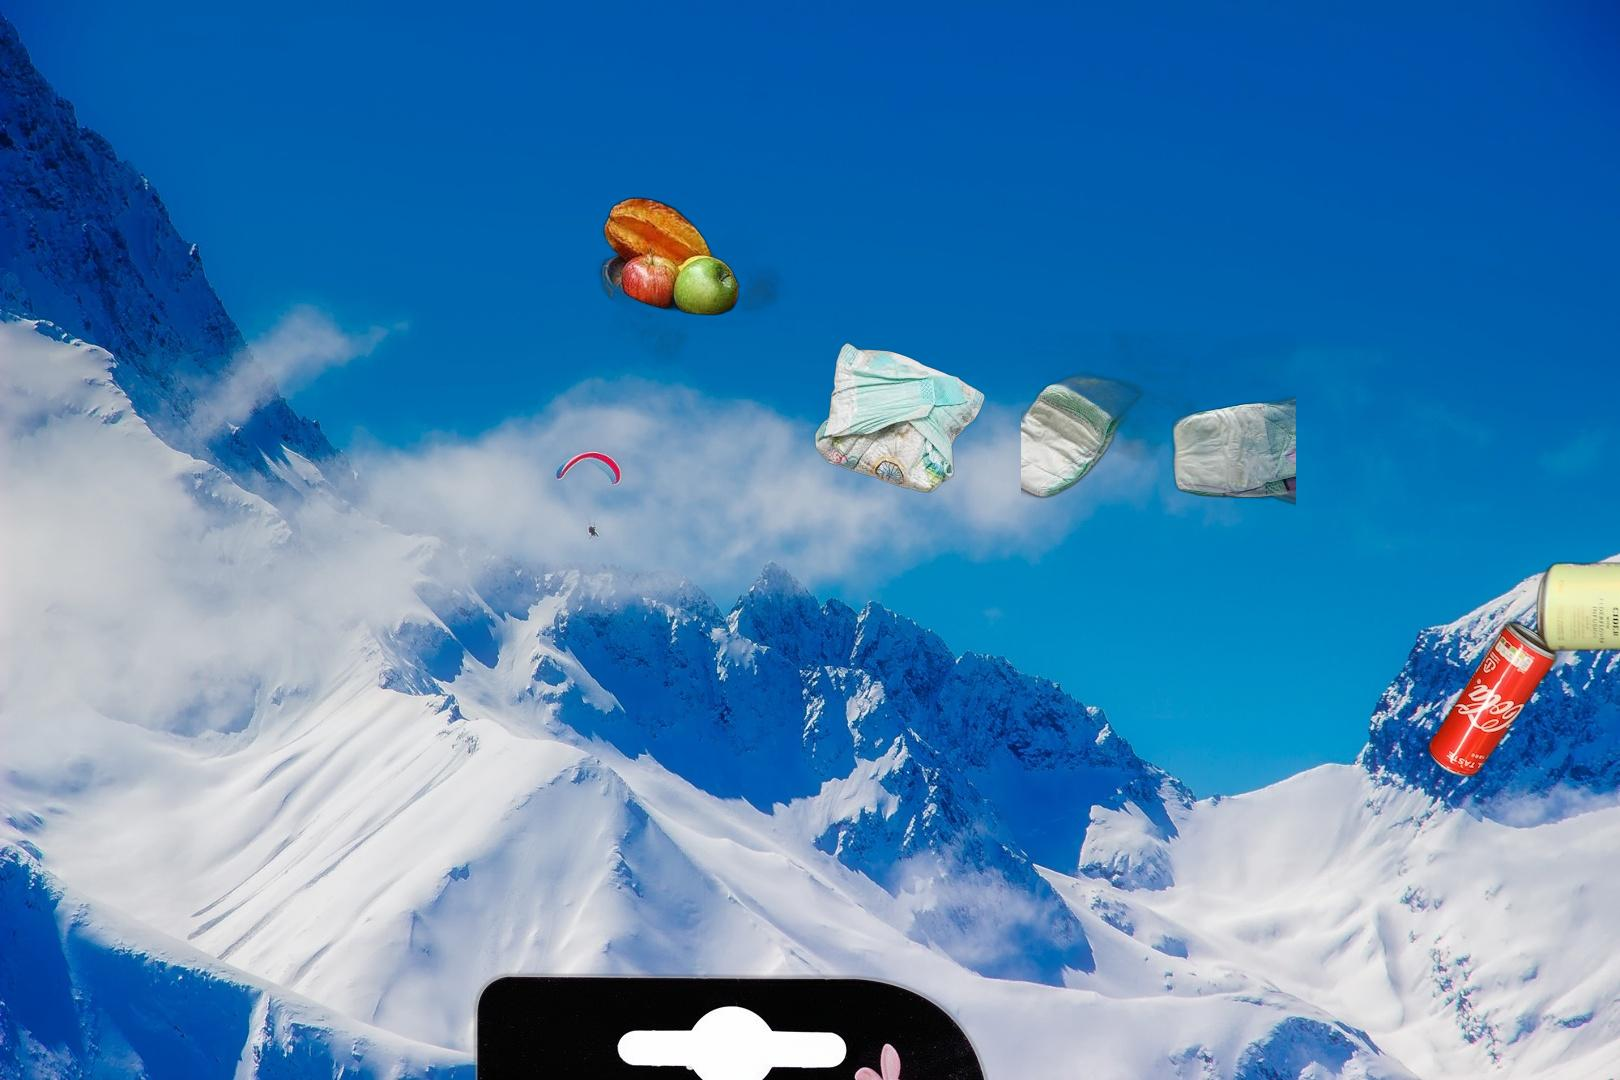battery: (464, 965, 1000, 1080)
biological: (585, 189, 867, 364)
metal-cans: (1424, 615, 1565, 783), (1532, 556, 1620, 657)
plastic-bottles: (477, 931, 990, 1080)
trash: (1021, 331, 1296, 513), (812, 340, 988, 495)
